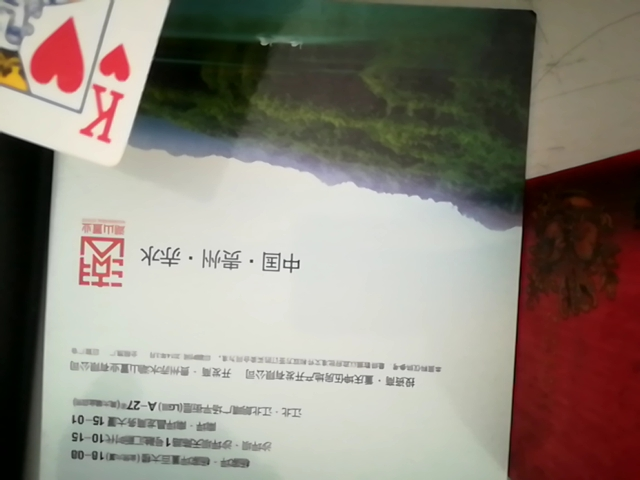hx k: (2, 0, 269, 173)
